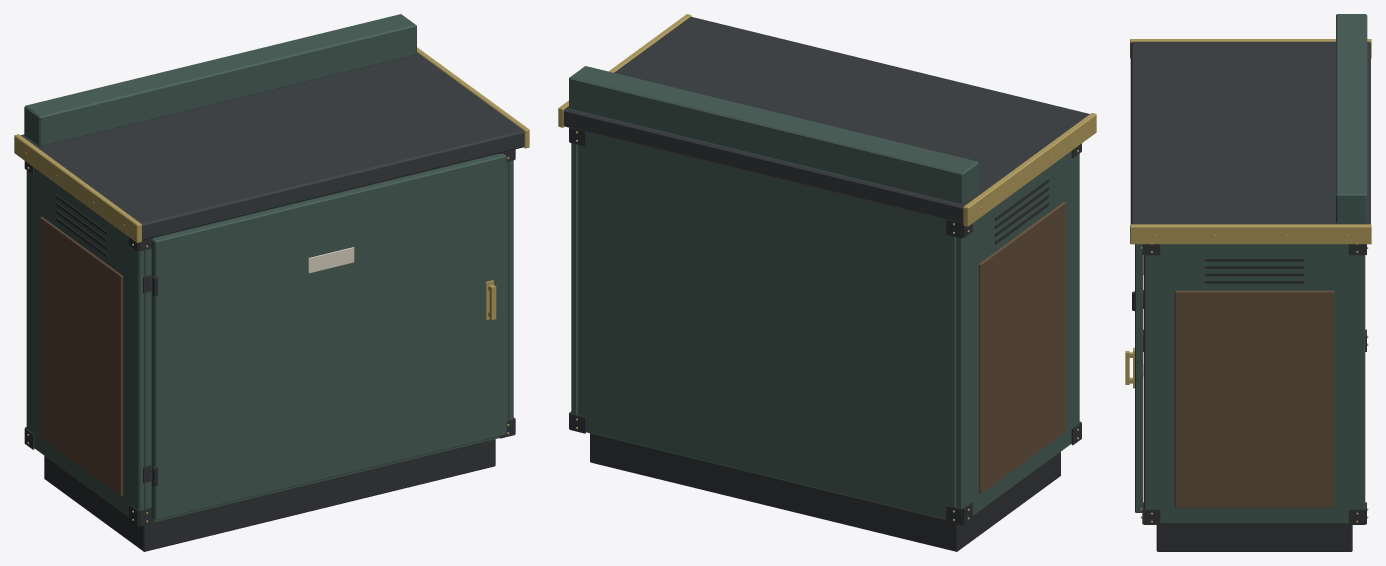
The model's file is cabinet.fbx.
3 views of the same model, side by side, from view 1: azimuth 30°, elevation 25°; view 2: azimuth 150°, elevation 25°; view 3: azimuth 270°, elevation 25° (orthographic). The views are drawn at different scales.
Visible parts, largest first — view 1: Cabinet_FrontAccessDoor, Cabinet_TopSurface, Cabinet_WoodAccent_Left, Cabinet_RearFascia, Cabinet_LeftPanel, Cabinet_BasePlinth, Cabinet_Frame, Cabinet_EdgeTrim_Left, Cabinet_RightPanel, Cabinet_CornerBrackets, Cabinet_SideVents, Cabinet_ServicePlate (+1 smaller); view 2: Cabinet_RearPanel, Cabinet_TopSurface, Cabinet_WoodAccent_Left, Cabinet_RearFascia, Cabinet_LeftPanel, Cabinet_BasePlinth, Cabinet_EdgeTrim_Left, Cabinet_RightPanel, Cabinet_CornerBrackets, Cabinet_SideVents, Cabinet_EdgeTrim_Right; view 3: Cabinet_TopSurface, Cabinet_WoodAccent_Right, Cabinet_RightPanel, Cabinet_RearFascia, Cabinet_BasePlinth, Cabinet_EdgeTrim_Right, Cabinet_FrontAccessDoor, Cabinet_SideVents, Cabinet_CornerBrackets, Cabinet_EdgeTrim_Left.
Part boxes in pixels (x1=…): Cabinet_FrontAccessDoor: x1=151, y1=153, x2=506, y2=520; Cabinet_TopSurface: x1=21, y1=52, x2=524, y2=240; Cabinet_WoodAccent_Left: x1=40, y1=216, x2=122, y2=496; Cabinet_RearFascia: x1=24, y1=14, x2=416, y2=146; Cabinet_LeftPanel: x1=26, y1=168, x2=144, y2=517; Cabinet_BasePlinth: x1=44, y1=439, x2=495, y2=551; Cabinet_Frame: x1=144, y1=153, x2=507, y2=522; Cabinet_EdgeTrim_Left: x1=14, y1=134, x2=141, y2=242; Cabinet_RightPanel: x1=508, y1=160, x2=513, y2=420; Cabinet_CornerBrackets: x1=24, y1=149, x2=515, y2=526; Cabinet_SideVents: x1=56, y1=195, x2=107, y2=257; Cabinet_ServicePlate: x1=308, y1=247, x2=354, y2=273; Cabinet_RearPanel: x1=578, y1=132, x2=956, y2=519; Cabinet_TopSurface: x1=563, y1=16, x2=1089, y2=223; Cabinet_WoodAccent_Left: x1=979, y1=202, x2=1065, y2=494; Cabinet_RearFascia: x1=569, y1=66, x2=978, y2=204; Cabinet_LeftPanel: x1=956, y1=151, x2=1079, y2=515; Cabinet_BasePlinth: x1=590, y1=433, x2=1060, y2=551; Cabinet_EdgeTrim_Left: x1=963, y1=113, x2=1096, y2=226; Cabinet_RightPanel: x1=571, y1=143, x2=577, y2=414; Cabinet_CornerBrackets: x1=569, y1=127, x2=1081, y2=525; Cabinet_SideVents: x1=995, y1=179, x2=1048, y2=244; Cabinet_EdgeTrim_Right: x1=558, y1=14, x2=691, y2=127; Cabinet_TopSurface: x1=1130, y1=41, x2=1370, y2=224; Cabinet_WoodAccent_Right: x1=1174, y1=290, x2=1334, y2=507; Cabinet_RightPanel: x1=1143, y1=244, x2=1365, y2=523; Cabinet_RearFascia: x1=1336, y1=14, x2=1367, y2=223; Cabinet_BasePlinth: x1=1156, y1=523, x2=1352, y2=551; Cabinet_EdgeTrim_Right: x1=1130, y1=224, x2=1371, y2=244; Cabinet_FrontAccessDoor: x1=1135, y1=244, x2=1142, y2=512; Cabinet_SideVents: x1=1204, y1=258, x2=1304, y2=283; Cabinet_CornerBrackets: x1=1142, y1=244, x2=1366, y2=524; Cabinet_EdgeTrim_Left: x1=1130, y1=39, x2=1371, y2=58.
Bounding box in the file's own units: 121 × 109 × 66.7.
